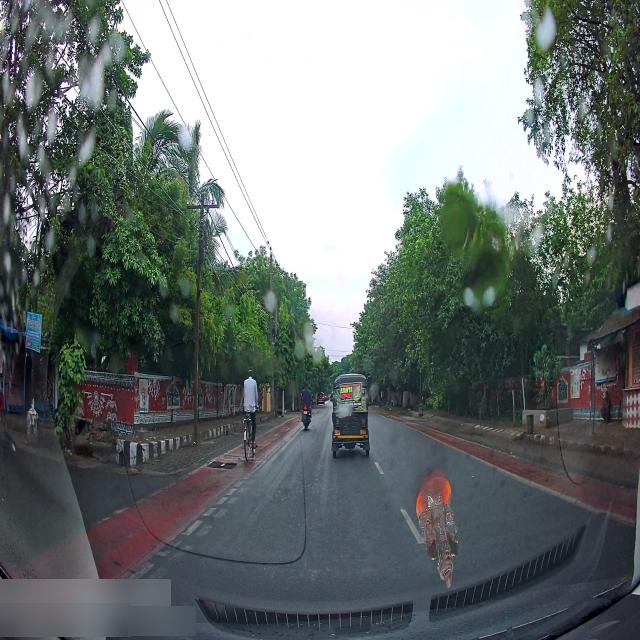pothole: (209, 450, 239, 478)
